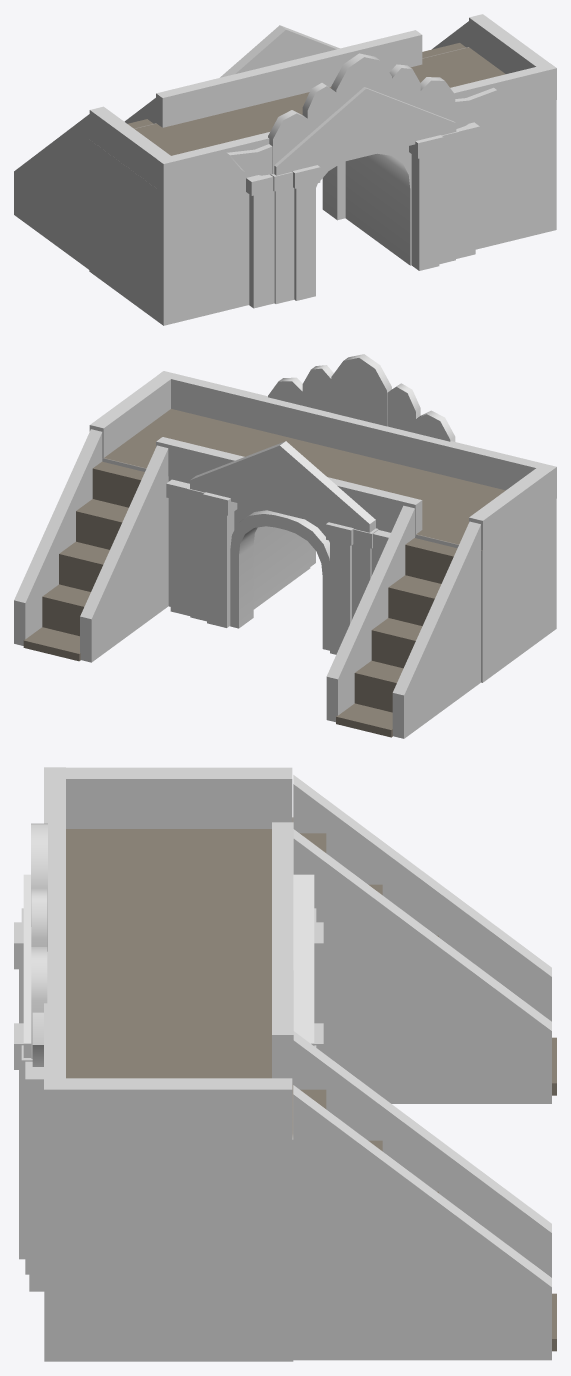
File: Plengkung Gading.fbx
3 renders of one model, top to bottom at view 1: azimuth 30°, elevation 25°; view 2: azimuth 150°, elevation 25°; view 3: azimuth 270°, elevation 25°, orthographic. The views are drawn at different scales.
Parts seen in each view (by area): view 1: Plengkung Gading; view 2: Plengkung Gading; view 3: Plengkung Gading.
Part boxes in pixels (box(x1,y1,x2,y2)): Plengkung Gading: box(14, 14, 556, 325); Plengkung Gading: box(14, 354, 556, 738); Plengkung Gading: box(14, 767, 556, 1361).
Bounding box in the file's own units: 1014 × 552 × 722.
1 material, 1 textured.
